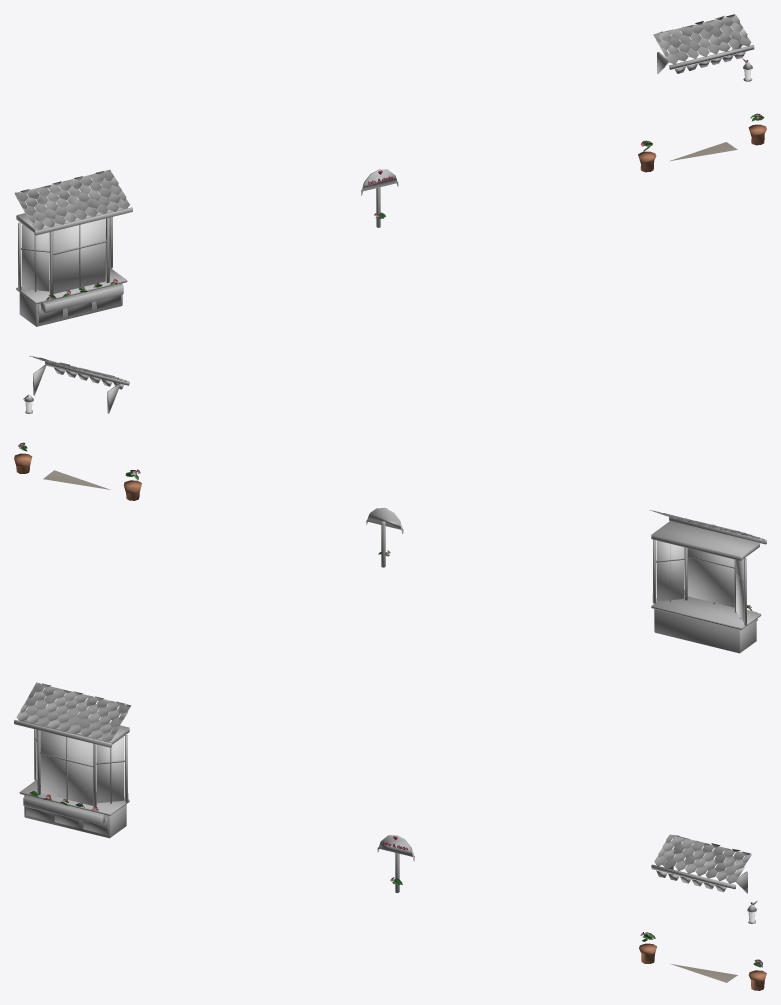
Rendered from bld_home_facade_lite.glb.
3 views of the same model, one above another, from view 1: azimuth 30°, elevation 25°; view 2: azimuth 150°, elevation 25°; view 3: azimuth 330°, elevation 25° (orthographic).
Visible parts, largest first — view 1: INST_bld_home_facade_lite_bay_s_glass, INST_bld_home_facade_lite_bay_s_trim, INST_bld_home_facade_lite_bay_s_roof, INST_bld_home_facade_lite_side_porch_s_roof, INST_bld_home_facade_lite_side_porch_s_fixed, INST_bld_home_facade_lite_bay_s_box, INST_bld_home_facade_lite_side_porch_s_fascia, INST_bld_home_facade_lite_bay_s_fascia; view 2: INST_bld_home_facade_lite_bay_s_trim, INST_bld_home_facade_lite_bay_s_glass, INST_bld_home_facade_lite_side_porch_s_fixed, INST_bld_home_facade_lite_side_porch_s_fascia, INST_bld_home_facade_lite_names_board_s_body; view 3: INST_bld_home_facade_lite_bay_s_glass, INST_bld_home_facade_lite_bay_s_roof, INST_bld_home_facade_lite_bay_s_trim, INST_bld_home_facade_lite_side_porch_s_roof, INST_bld_home_facade_lite_side_porch_s_fixed, INST_bld_home_facade_lite_bay_s_box, INST_bld_home_facade_lite_side_porch_s_fascia.
Boxes of the visible parts, x1,y1,x2,y2 form: INST_bld_home_facade_lite_bay_s_glass: (22,217,110,293); INST_bld_home_facade_lite_bay_s_trim: (16,197,127,326); INST_bld_home_facade_lite_bay_s_roof: (15,169,129,229); INST_bld_home_facade_lite_side_porch_s_roof: (653,14,751,64); INST_bld_home_facade_lite_side_porch_s_fixed: (638,60,766,172); INST_bld_home_facade_lite_bay_s_box: (41,283,123,313); INST_bld_home_facade_lite_side_porch_s_fascia: (669,45,754,73); INST_bld_home_facade_lite_bay_s_fascia: (34,207,132,235); INST_bld_home_facade_lite_bay_s_trim: (651,521,761,653); INST_bld_home_facade_lite_bay_s_glass: (656,540,743,621); INST_bld_home_facade_lite_side_porch_s_fixed: (14,442,141,500); INST_bld_home_facade_lite_side_porch_s_fascia: (45,362,129,389); INST_bld_home_facade_lite_names_board_s_body: (366,508,403,533); INST_bld_home_facade_lite_bay_s_glass: (36,729,124,805); INST_bld_home_facade_lite_bay_s_roof: (16,682,130,741); INST_bld_home_facade_lite_bay_s_trim: (19,707,129,838); INST_bld_home_facade_lite_side_porch_s_roof: (654,834,751,883); INST_bld_home_facade_lite_side_porch_s_fixed: (639,902,766,990); INST_bld_home_facade_lite_bay_s_box: (23,795,105,824); INST_bld_home_facade_lite_side_porch_s_fascia: (651,864,735,892).
Bounding box in the file's own units: 18.85 × 3.07 × 1.02.
